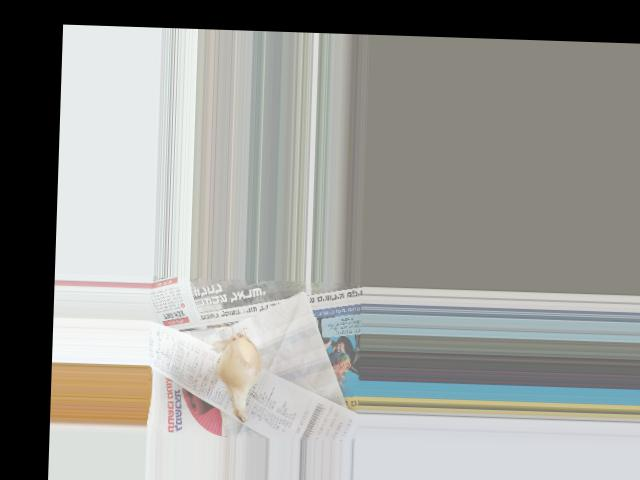onion: (216, 340, 263, 395)
